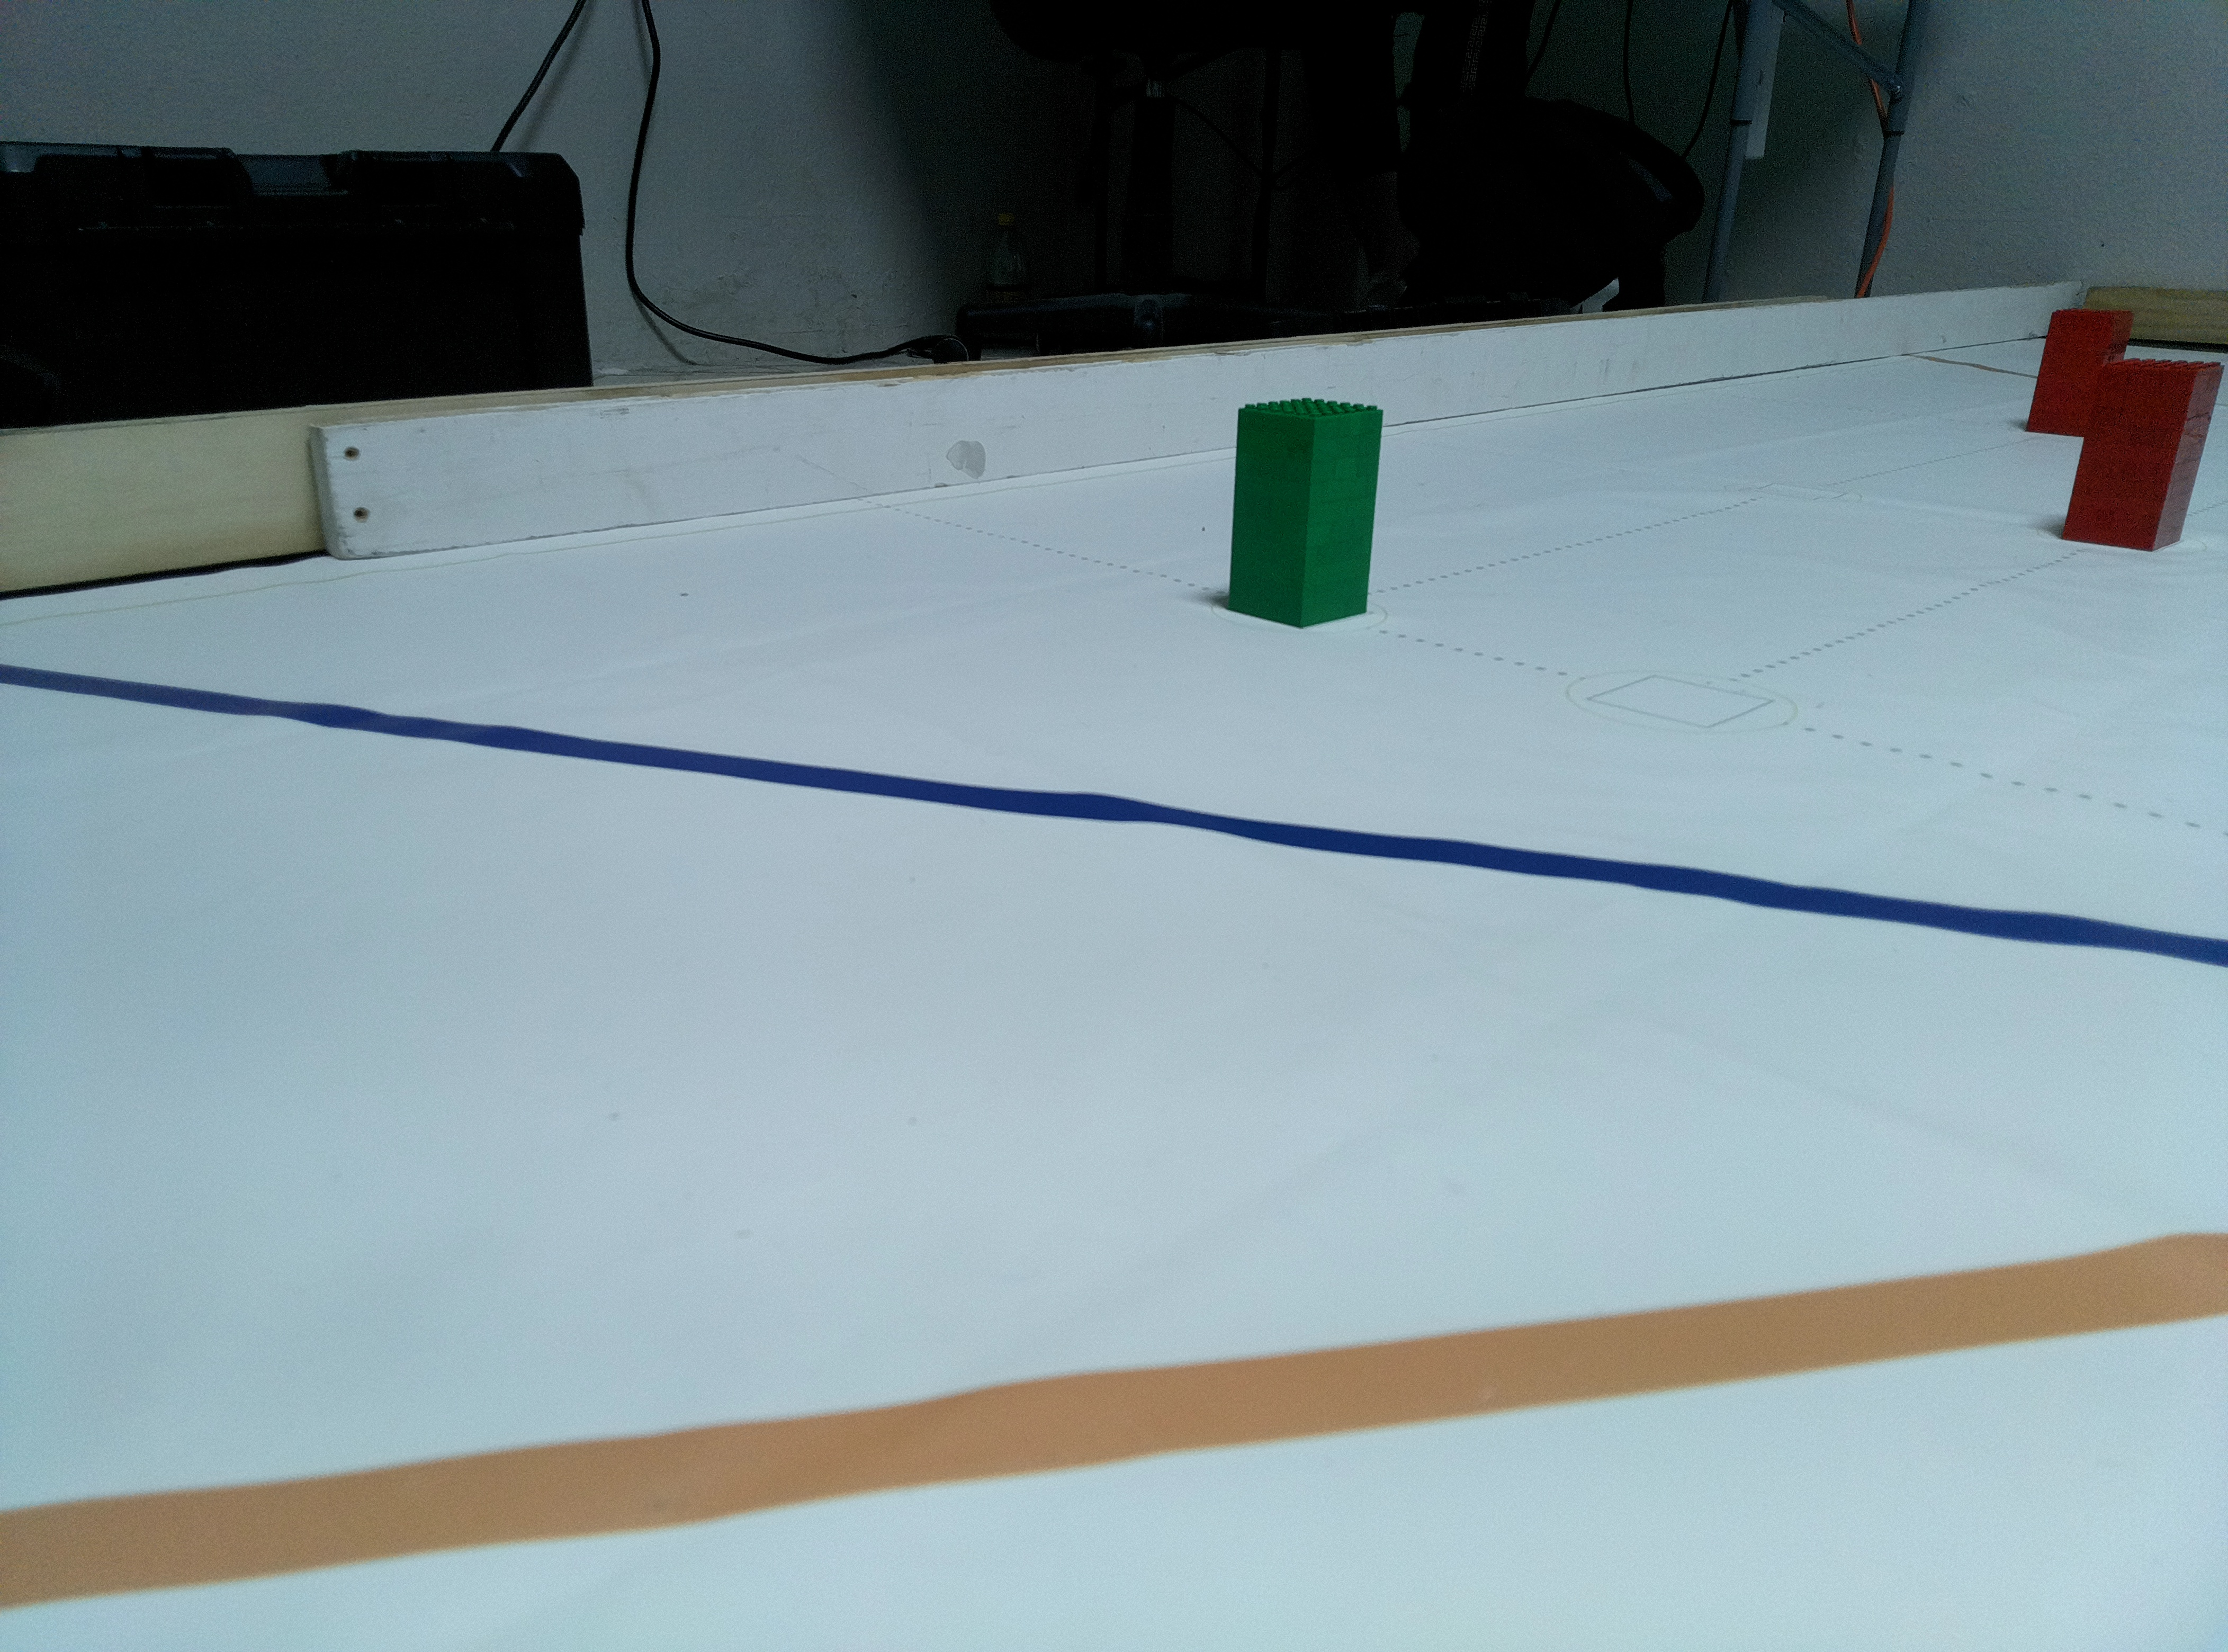greenbox: (1223, 390, 1383, 632)
redbox: (2058, 357, 2225, 550), (2025, 307, 2131, 434)
